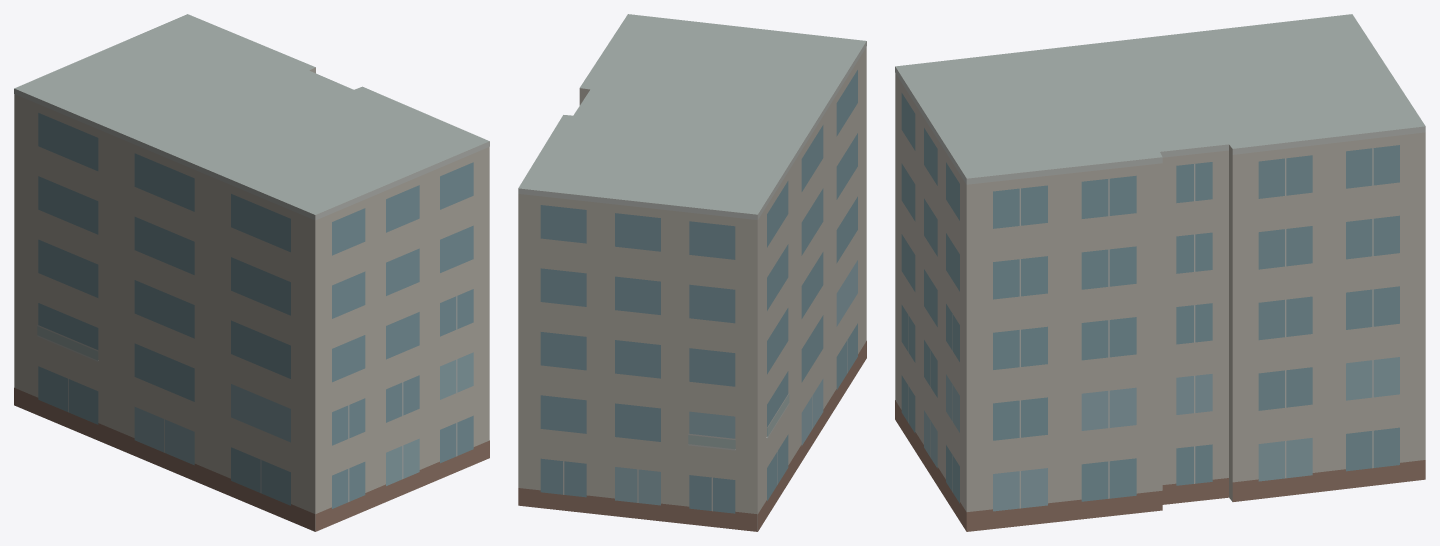
Rendered from survey-upis-32563790.glb.
3 renders of one model, left to right at view 1: azimuth 30°, elevation 25°; view 2: azimuth 150°, elevation 25°; view 3: azimuth 270°, elevation 25°, orthographic. The views are drawn at different scales.
Parts seen in each view (by area): view 1: survey-upis-32563790.tmp; view 2: survey-upis-32563790.tmp; view 3: survey-upis-32563790.tmp.
Part boxes in pixels (left/top/right/bottom): survey-upis-32563790.tmp: left=14, top=14, right=489, bottom=531; survey-upis-32563790.tmp: left=518, top=14, right=866, bottom=531; survey-upis-32563790.tmp: left=895, top=14, right=1425, bottom=531.
Size of the model in its own units: 14.21 by 14.2 by 19.34.
